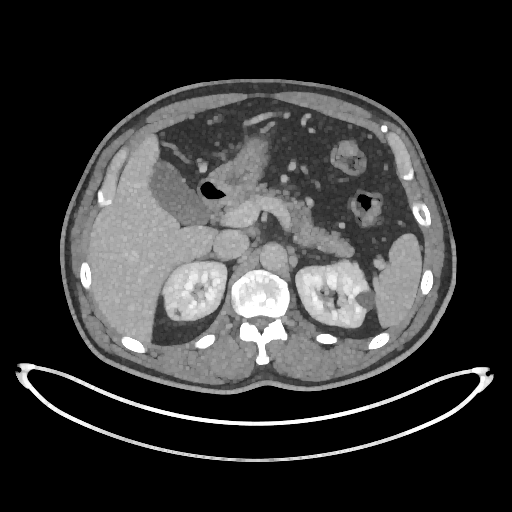Lesion: (352, 290, 377, 311)
